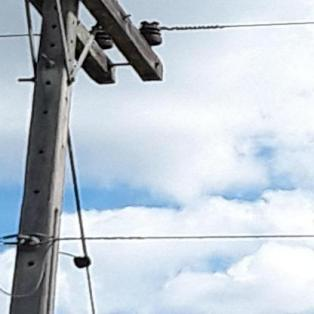Poste: (3, 0, 86, 314)
